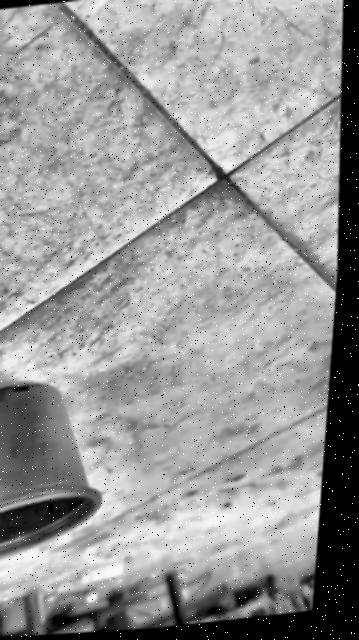pot: (0, 377, 112, 567)
